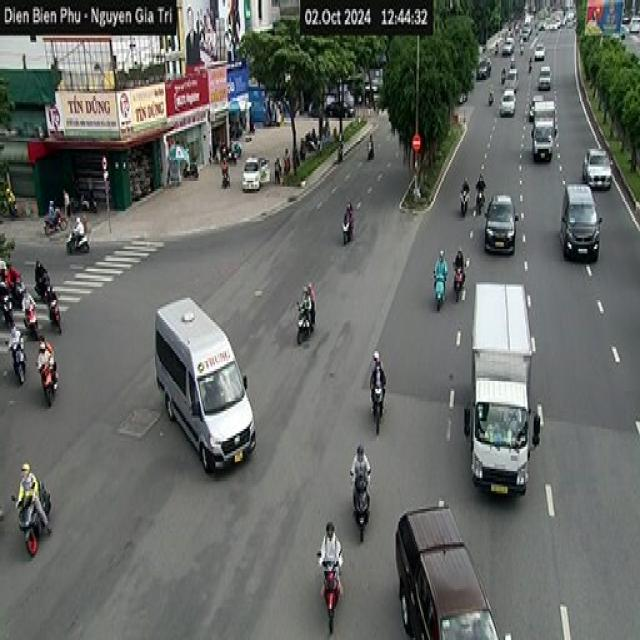car: (390, 504, 504, 640), (559, 182, 601, 262), (483, 194, 518, 254), (239, 158, 268, 203), (581, 147, 611, 189), (498, 76, 517, 120)
motorcycle: (10, 484, 51, 556), (316, 551, 342, 633), (350, 469, 370, 542), (35, 358, 59, 407), (5, 336, 26, 384), (64, 234, 93, 267), (369, 378, 385, 433), (295, 300, 314, 344), (35, 212, 66, 236), (45, 287, 61, 333), (358, 139, 380, 172), (476, 186, 494, 222), (1, 293, 16, 334), (22, 308, 41, 339), (433, 271, 445, 311), (453, 262, 465, 302), (36, 278, 52, 307), (340, 218, 352, 244), (459, 187, 469, 216)
person: (15, 462, 51, 534), (316, 520, 342, 596), (350, 442, 371, 514), (369, 351, 386, 416), (72, 219, 98, 253), (432, 249, 448, 304), (6, 323, 22, 374), (8, 274, 20, 336), (291, 282, 308, 324), (22, 275, 37, 322), (31, 252, 49, 288), (42, 188, 60, 224), (38, 338, 52, 373), (45, 282, 57, 322), (473, 168, 489, 198), (46, 336, 60, 369), (342, 202, 353, 242), (456, 175, 471, 202), (306, 286, 318, 319), (369, 121, 378, 150)
truck: (154, 296, 256, 474), (464, 280, 544, 498), (534, 95, 557, 169), (539, 64, 556, 103)
